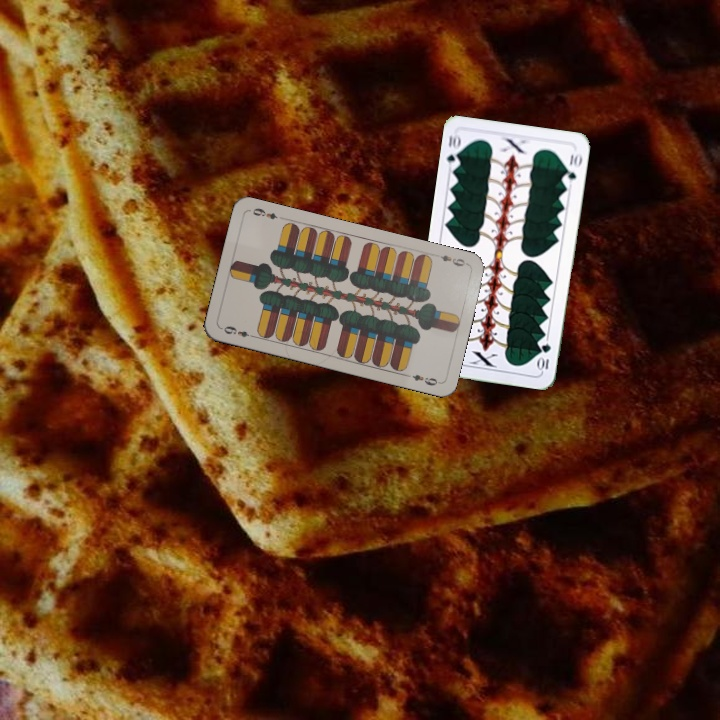E9: (430, 250, 470, 269), (220, 322, 258, 341)
G10: (443, 131, 463, 171), (535, 340, 553, 374)
